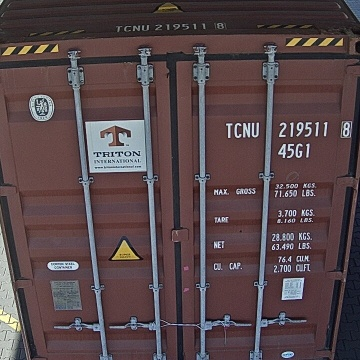serial_id: (226, 121, 351, 137)
